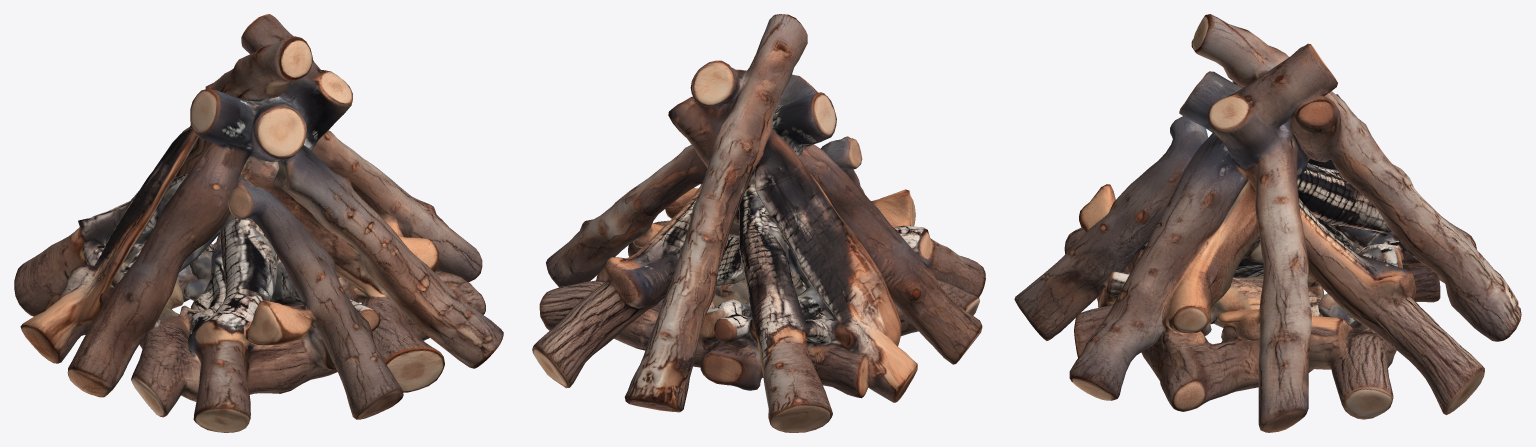
Rendered from Meshy_AI_Pile_of_firewood_0519062907_texture.fbx.
3 views of the same model, side by side, from view 1: azimuth 30°, elevation 25°; view 2: azimuth 150°, elevation 25°; view 3: azimuth 270°, elevation 25° (orthographic). The views are drawn at different scales.
Parts seen in each view (by area): view 1: Mesh_0; view 2: Mesh_0; view 3: Mesh_0.
Boxes of the visible parts, x1,y1,x2,y2 form: Mesh_0: (14, 14, 503, 432); Mesh_0: (532, 14, 985, 432); Mesh_0: (1014, 14, 1521, 432).
Bounding box in the file's own units: 188 × 139 × 190.
Materials: 1 (1 with a texture image).
